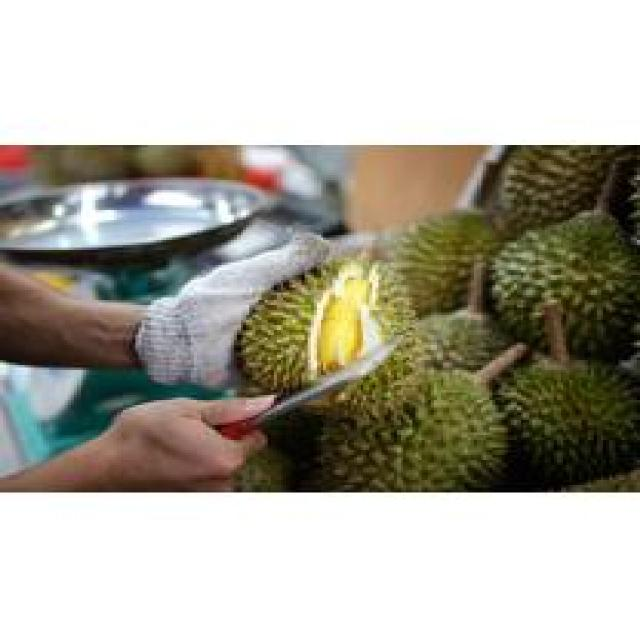fruit: (474, 197, 640, 385), (489, 338, 640, 482)
